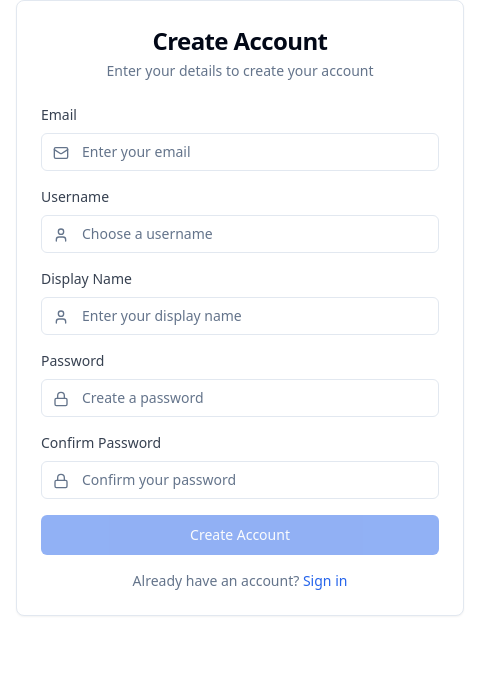
Scenario: SignUpForm Security › Username Input Security › should validate username format
Type "user@name" into the field labelled "Username" at (240,234), box [41, 215, 439, 253]
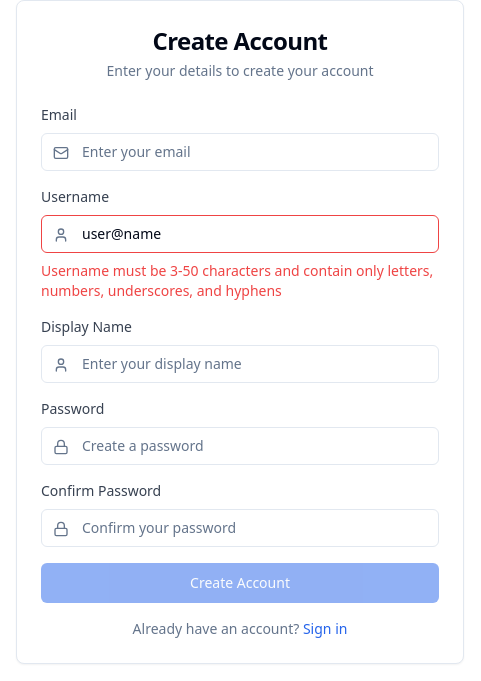
Result: the text "Username must be 3-50 characters and contain only letters, numbers, underscores, and hyphens" is shown at [41, 261, 433, 300]
